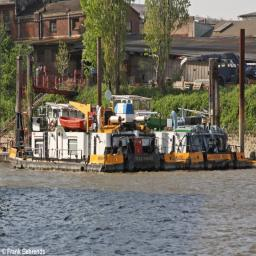tugboat: (9, 100, 179, 178)
